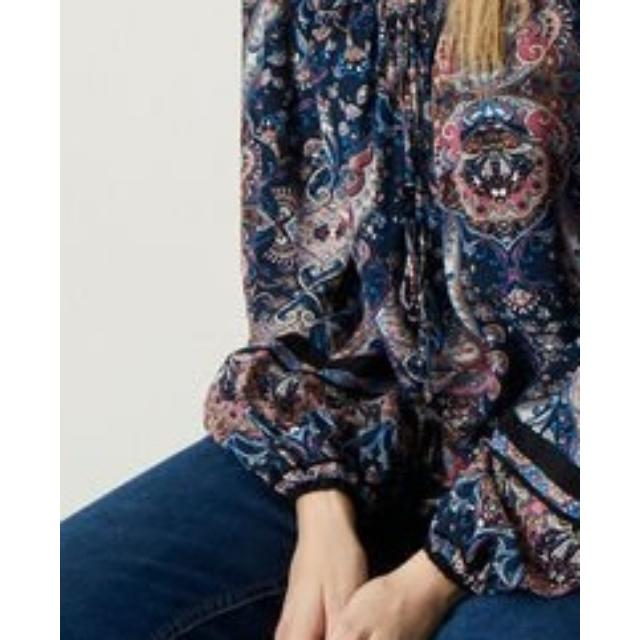denim: (94, 488, 270, 640)
